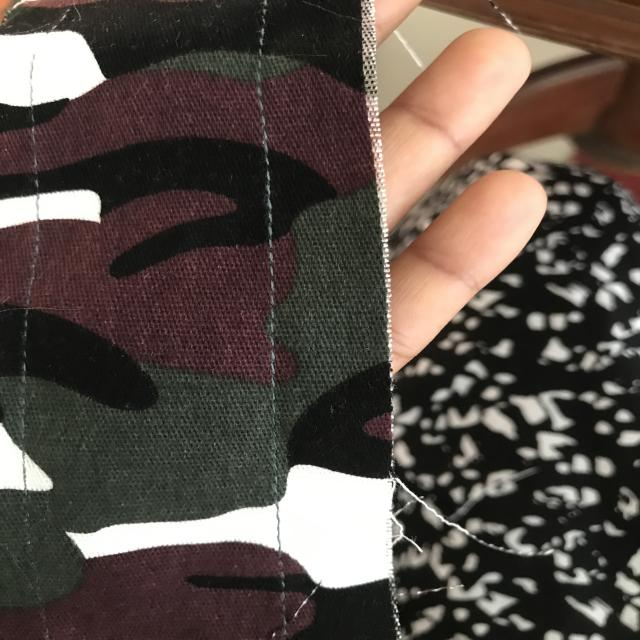good: (246, 178, 294, 312)
